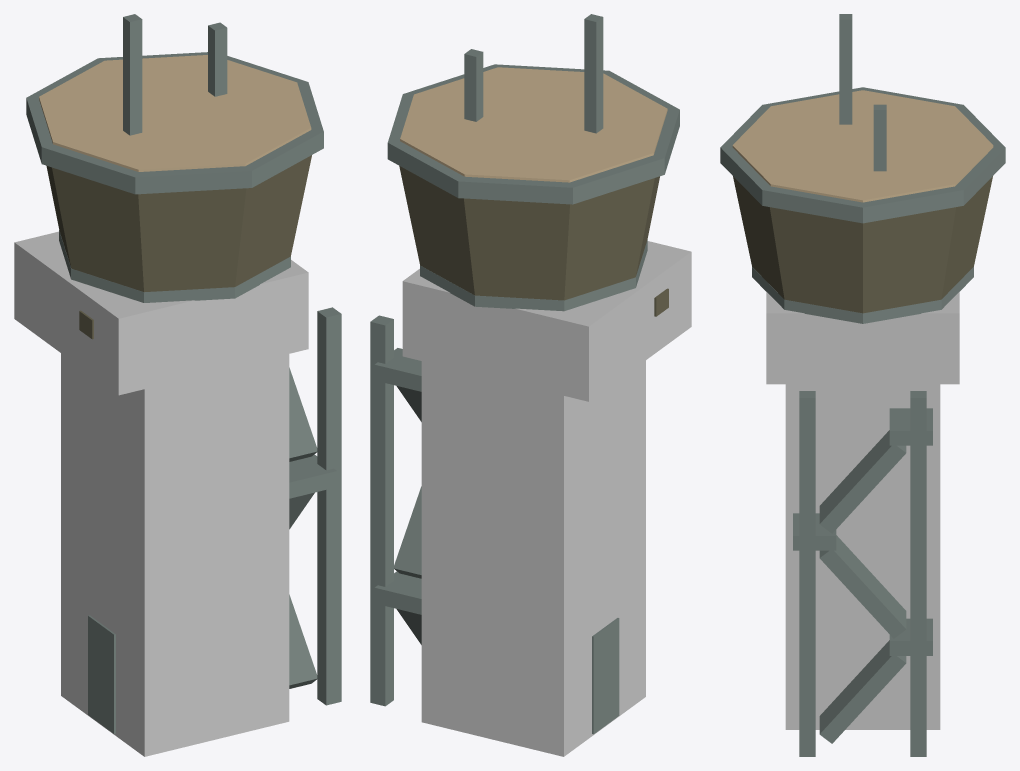
The model's file is SM_TorreControl_v0_LOD1.fbx.
The picture shows the model from 3 angles, left to right: view 1: azimuth 30°, elevation 25°; view 2: azimuth 150°, elevation 25°; view 3: azimuth 270°, elevation 25°; orthographic projection. The views are drawn at different scales.
Parts seen in each view (by area): view 1: SM_torre_control_v0_LOD1; view 2: SM_torre_control_v0_LOD1; view 3: SM_torre_control_v0_LOD1.
Boxes of the visible parts, left/top/right/bottom form: SM_torre_control_v0_LOD1: left=14, top=14, right=341, bottom=756; SM_torre_control_v0_LOD1: left=370, top=14, right=691, bottom=756; SM_torre_control_v0_LOD1: left=720, top=14, right=1005, bottom=756.
Size of the model in its own units: 5.9 by 15.01 by 5.9.
